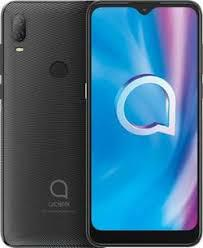Smartphone: (86, 6, 195, 246), (9, 3, 83, 246)
